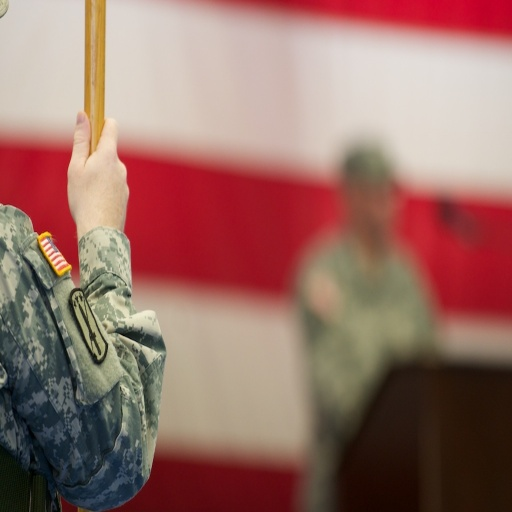hand: (60, 112, 126, 256)
